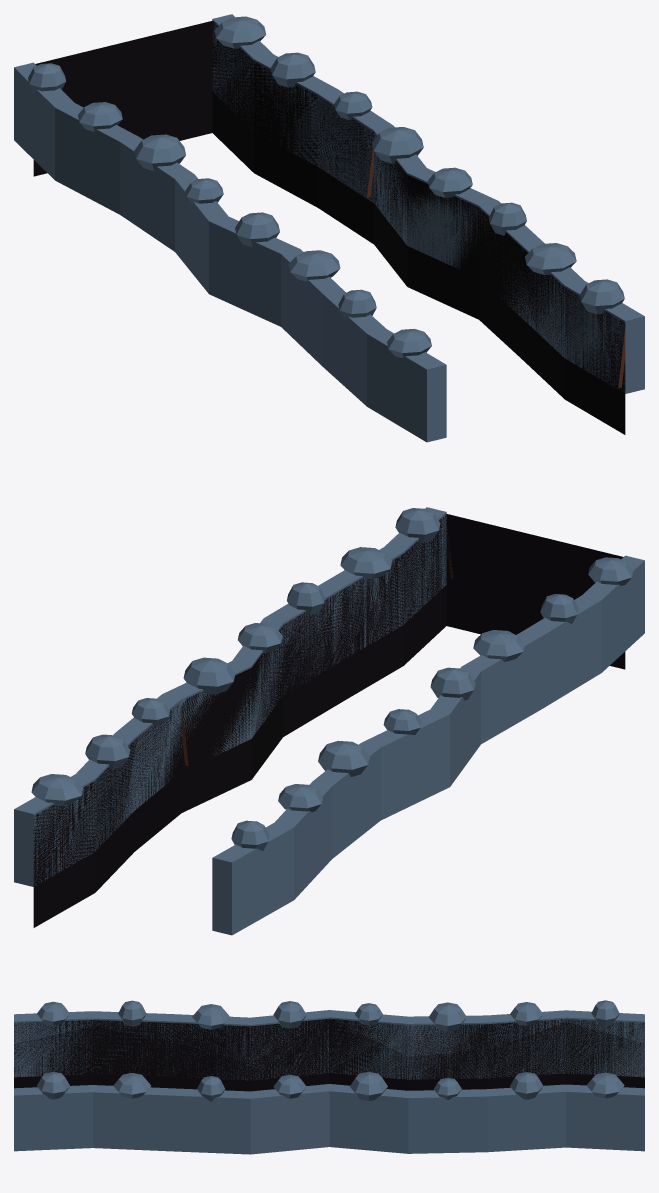
The model's file is chasm.glb.
3 renders of one model, top to bottom at view 1: azimuth 30°, elevation 25°; view 2: azimuth 150°, elevation 25°; view 3: azimuth 270°, elevation 25°, orthographic. The views are drawn at different scales.
Parts seen in each view (by area): view 1: chasm_Surface; view 2: chasm_Surface; view 3: chasm_Surface.
Boxes of the visible parts, left/top/right/bottom form: chasm_Surface: left=14, top=14, right=644, bottom=442; chasm_Surface: left=14, top=507, right=644, bottom=935; chasm_Surface: left=14, top=1000, right=644, bottom=1154.
Bounding box in the file's own units: 1.35 × 0.7175 × 4.
1 material, 1 textured.
